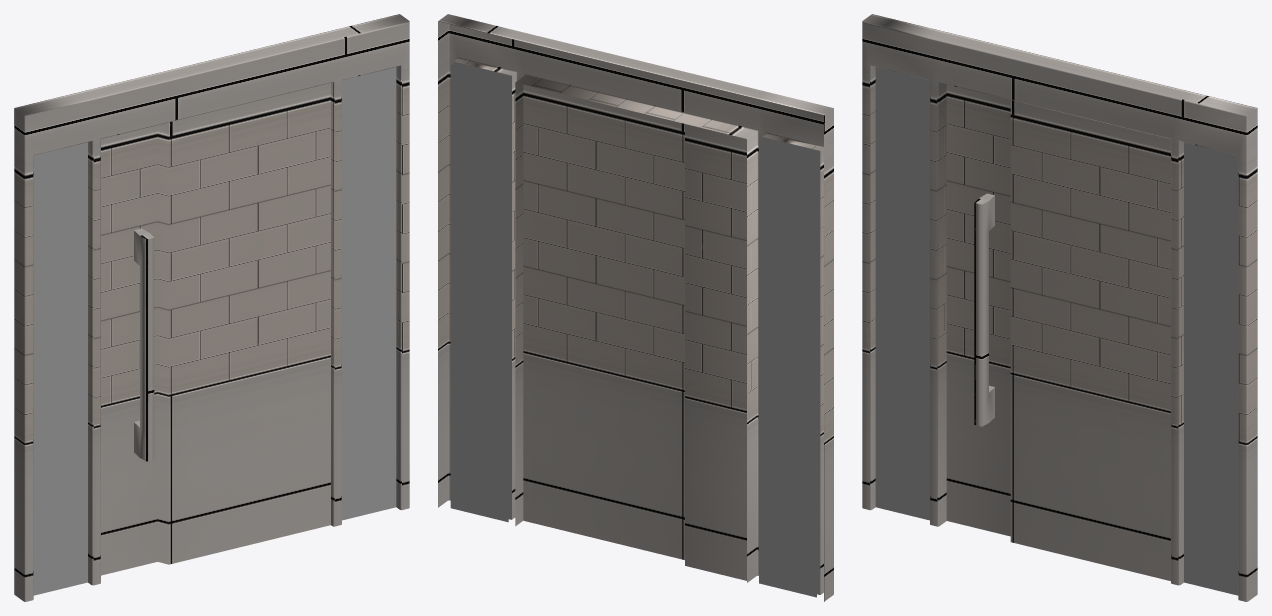
File: Door_1.fbx
3 renders of one model, left to right at view 1: azimuth 30°, elevation 25°; view 2: azimuth 150°, elevation 25°; view 3: azimuth 330°, elevation 25°, orthographic.
Visible parts, largest first — view 1: Door_1_v1; view 2: Door_1_v1; view 3: Door_1_v1.
Part boxes in pixels (x1,y1,x2,y2): Door_1_v1: [14, 14, 409, 601]; Door_1_v1: [438, 14, 833, 601]; Door_1_v1: [862, 14, 1257, 601].
Size of the model in its own units: 200 by 241 by 13.55.
